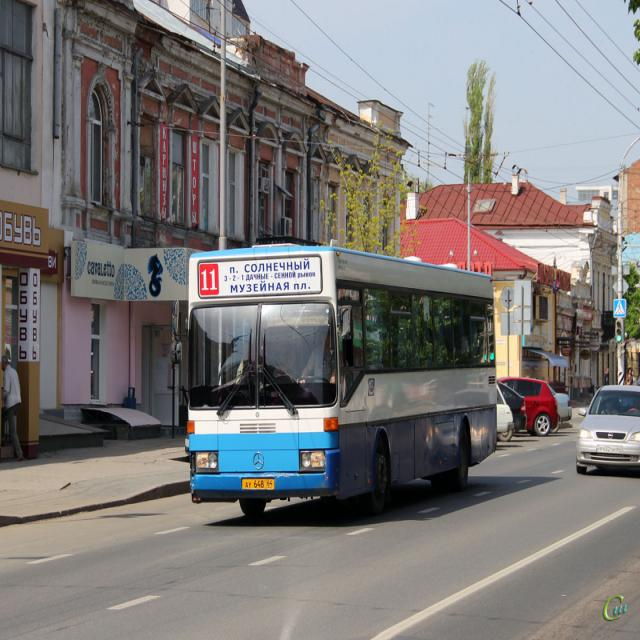number-of-bus: (200, 265, 220, 295)
